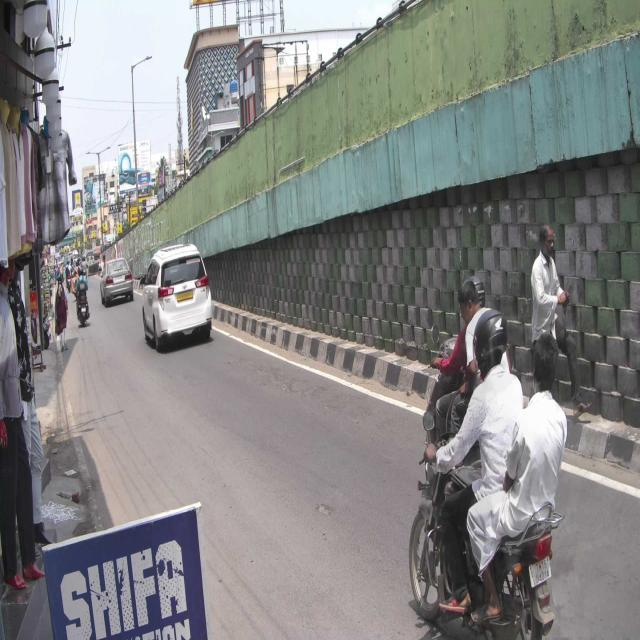double_rider: (410, 306, 567, 640)
